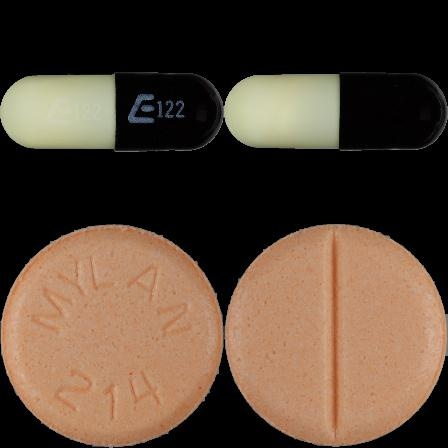49349-576: (0, 0, 224, 224)
